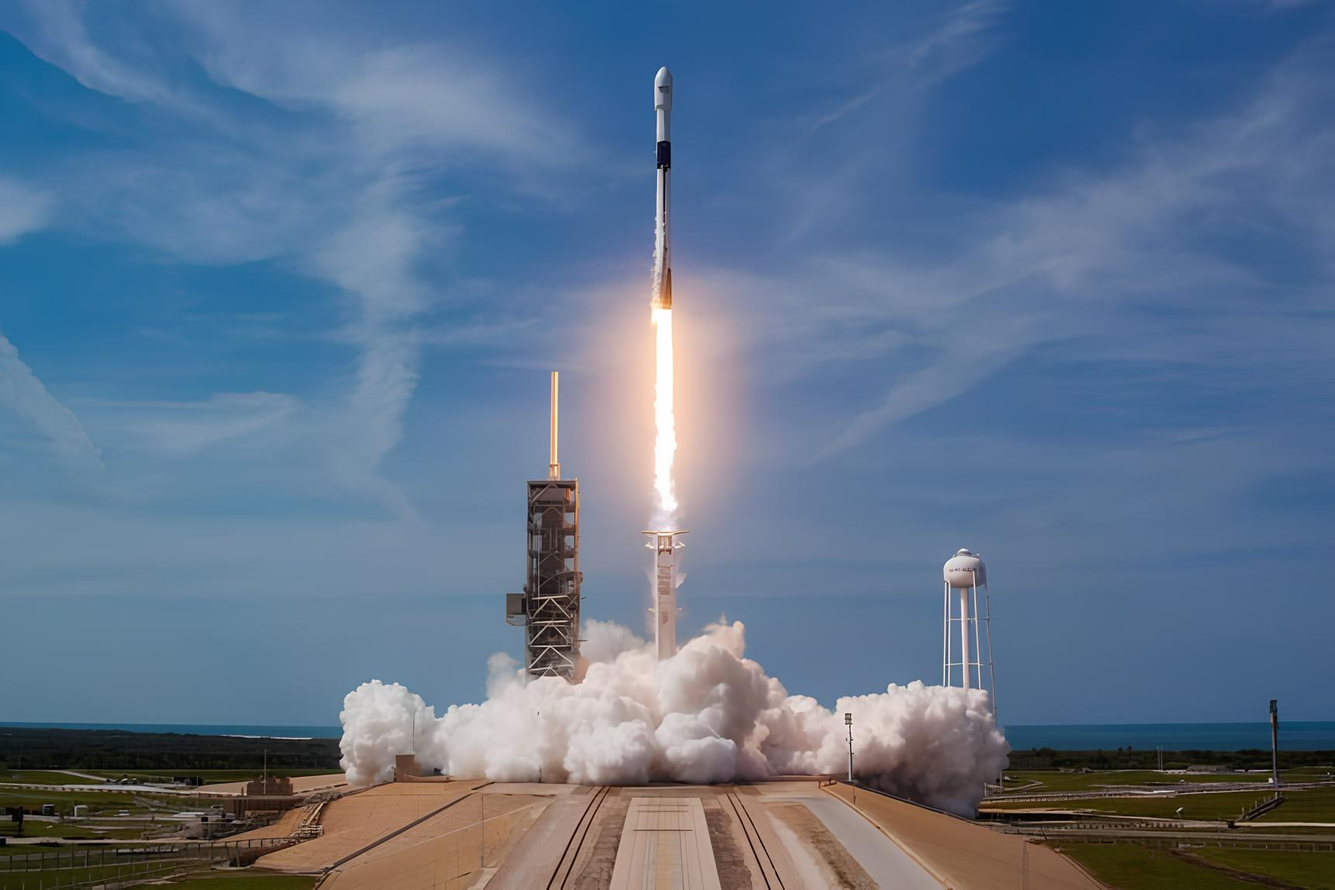falcon: (628, 58, 683, 545)
